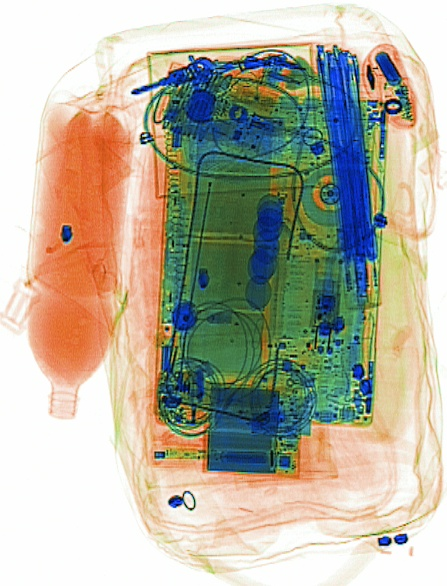powerbank: (196, 379, 305, 481)
